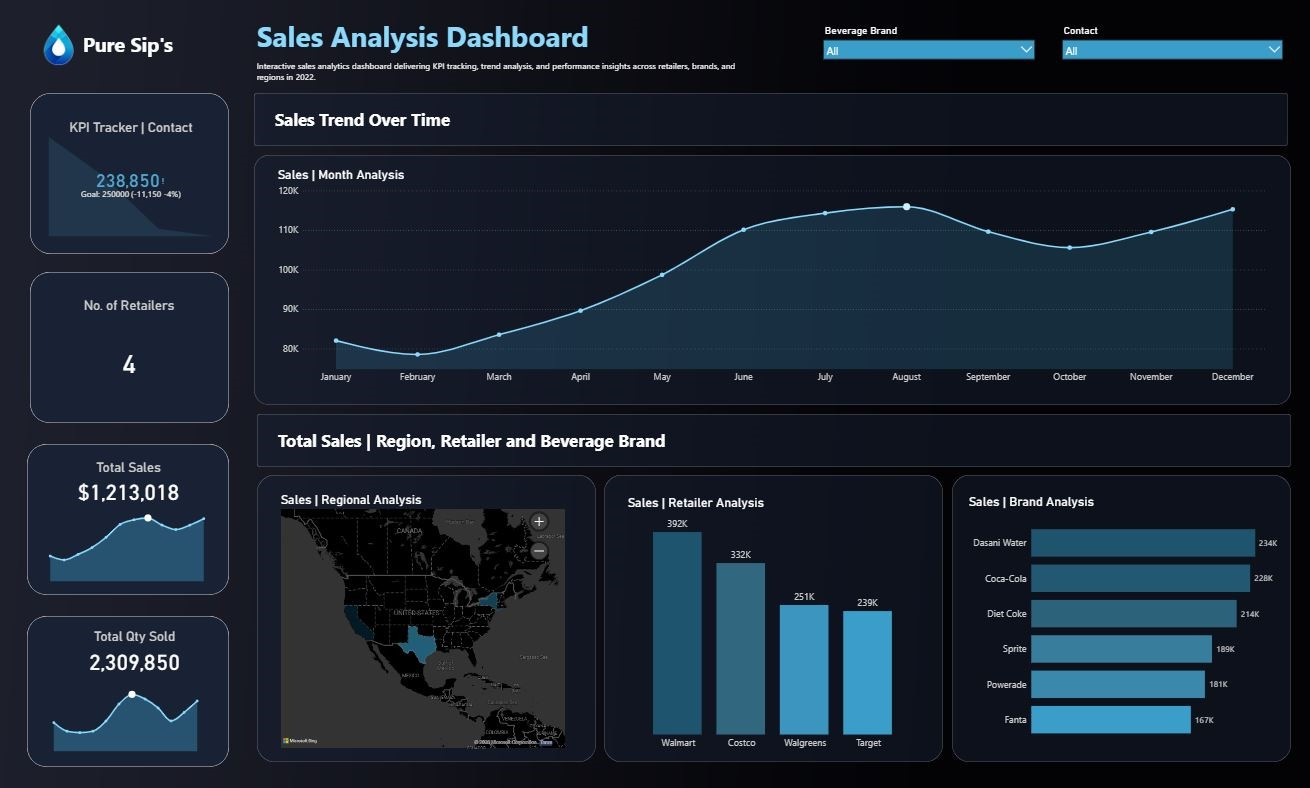

This screenshot's page, from the dashboard's own definition file:
{"tool":"powerbi","page":{"name":"Dashboard","canvas":[2500,1500],"ordinal":1},"visuals":[{"type":"shape","box":[58.9,178.6,378,305.9],"z":0},{"type":"shape","box":[58.9,518.4,378,286.9],"z":1000},{"type":"shape","box":[53.2,845.2,383.7,286.9],"z":2000},{"type":"shape","box":[484.4,296.4,1970,474.9],"z":3000},{"type":"shape","box":[1810.4,904.3,644,545.2],"z":4000},{"type":"shape","box":[1149.3,904.3,644,545.2],"z":5000},{"type":"shape","box":[490.1,904.3,644,545.2],"z":6000},{"type":"shape","box":[53.2,1172.1,383.7,286.9],"z":7000},{"type":"filledMap","title":"Sales | Regional Analysis","fields":{"Category":["PureSip Data.State"]},"box":[530,936.6,550.9,492],"z":8000},{"type":"clusteredBarChart","title":"Sales | Brand Analysis","fields":{"Y":["Sum(PureSip Data.Sales)"],"Category":["PureSip Data.Beverage Brand"]},"box":[1837,940.3,596.5,488.2],"z":9000},{"type":"clusteredColumnChart","title":"Sales | Retailer Analysis","fields":{"Category":["PureSip Data.Retailer"],"Y":["Sum(PureSip Data.Sales)"]},"box":[1189.2,942.2,564.2,492],"z":10000},{"type":"stackedAreaChart","title":"Sales | Month Analysis","fields":{"Category":["PureSip Data.Order Date.Variation.Date Hierarchy.Month"],"Y":["Sum(PureSip Data.Sales)"]},"box":[524.3,319.1,1886.4,419.8],"z":11000},{"type":"card","title":"Total Qty Sold","fields":{"Values":["Calculated Measures.Total Qty Sold"]},"box":[112.1,1194.9,290.7,93.1],"z":12000},{"type":"card","title":"Total Sales","fields":{"Values":["Calculated Measures.Total Sales"]},"box":[100.7,873.7,290.7,91.2],"z":13000},{"type":"card","title":"No. of Retailers","fields":{"Values":["Calculated Measures.No of Retailers"]},"box":[85.5,565.9,322.9,212.8],"z":14000},{"type":"kpi","title":"KPI Tracker | Contact","fields":{"Indicator":["Sum(PureSip Data.Sales)"],"TrendLine":["PureSip Data.Contact"],"Goal":["Calculated Measures.Target"]},"box":[89.3,228,322.9,228],"z":15000},{"type":"areaChart","fields":{"Y":["Calculated Measures.Total Sales"],"Category":["PureSip Data.Order Date.Variation.Date Hierarchy.Month"]},"box":[81.7,963.1,322.9,148.2],"z":16000},{"type":"areaChart","fields":{"Y":["Calculated Measures.Total Qty Sold"],"Category":["PureSip Data.Order Date.Variation.Date Hierarchy.Month"]},"box":[89.3,1288,302.1,146.3],"z":17000},{"type":"slicer","fields":{"Values":["PureSip Data.Contact"]},"box":[2009.9,43.7,438.8,100.7],"z":18000},{"type":"shape","box":[490.1,788.2,1964.3,100.7],"z":19000},{"type":"textbox","box":[524.3,811,1318.4,55.1],"z":20000},{"type":"shape","box":[484.6,178.6,1964.3,100.7],"z":21000},{"type":"textbox","box":[518.8,201.4,1318.4,55.1],"z":22000},{"type":"slicer","fields":{"Values":["PureSip Data.Beverage Brand"]},"box":[1555.9,43.7,421.7,115.9],"z":23000},{"type":"textbox","box":[153.9,55.1,207.1,74.1],"z":24000},{"type":"textbox","box":[484.4,28.5,911.9,83.6],"z":25000},{"type":"textbox","box":[484.4,110.2,947.9,58.9],"z":26000},{"type":"image","box":[58.9,43.7,108.3,89.3],"z":27000}]}

Visuals, with their boxes in screenshot pixels (x1, y1, x2, y2), scaled from the page's 2500x1500 canvas onto the 1310x788 screenshot:
shape: x1=31 y1=94 x2=229 y2=255
shape: x1=31 y1=272 x2=229 y2=423
shape: x1=28 y1=444 x2=229 y2=595
shape: x1=254 y1=156 x2=1286 y2=405
shape: x1=949 y1=475 x2=1286 y2=761
shape: x1=602 y1=475 x2=940 y2=761
shape: x1=257 y1=475 x2=594 y2=761
shape: x1=28 y1=616 x2=229 y2=766
"Sales | Regional Analysis" filledMap: x1=278 y1=492 x2=566 y2=750
"Sales | Brand Analysis" clusteredBarChart: x1=963 y1=494 x2=1275 y2=750
"Sales | Retailer Analysis" clusteredColumnChart: x1=623 y1=495 x2=919 y2=753
"Sales | Month Analysis" stackedAreaChart: x1=275 y1=168 x2=1263 y2=388
"Total Qty Sold" card: x1=59 y1=628 x2=211 y2=677
"Total Sales" card: x1=53 y1=459 x2=205 y2=507
"No. of Retailers" card: x1=45 y1=297 x2=214 y2=409
"KPI Tracker | Contact" kpi: x1=47 y1=120 x2=216 y2=240
areaChart - Calculated Measures.Total Sales x PureSip Data.Order Date.Variation.Date Hierarchy.Month: x1=43 y1=506 x2=212 y2=584
areaChart - Calculated Measures.Total Qty Sold x PureSip Data.Order Date.Variation.Date Hierarchy.Month: x1=47 y1=677 x2=205 y2=753
slicer - PureSip Data.Contact: x1=1053 y1=23 x2=1283 y2=76
shape: x1=257 y1=414 x2=1286 y2=467
textbox: x1=275 y1=426 x2=966 y2=455
shape: x1=254 y1=94 x2=1283 y2=147
textbox: x1=272 y1=106 x2=963 y2=135
slicer - PureSip Data.Beverage Brand: x1=815 y1=23 x2=1036 y2=84
textbox: x1=81 y1=29 x2=189 y2=68
textbox: x1=254 y1=15 x2=732 y2=59
textbox: x1=254 y1=58 x2=751 y2=89
image: x1=31 y1=23 x2=88 y2=70
